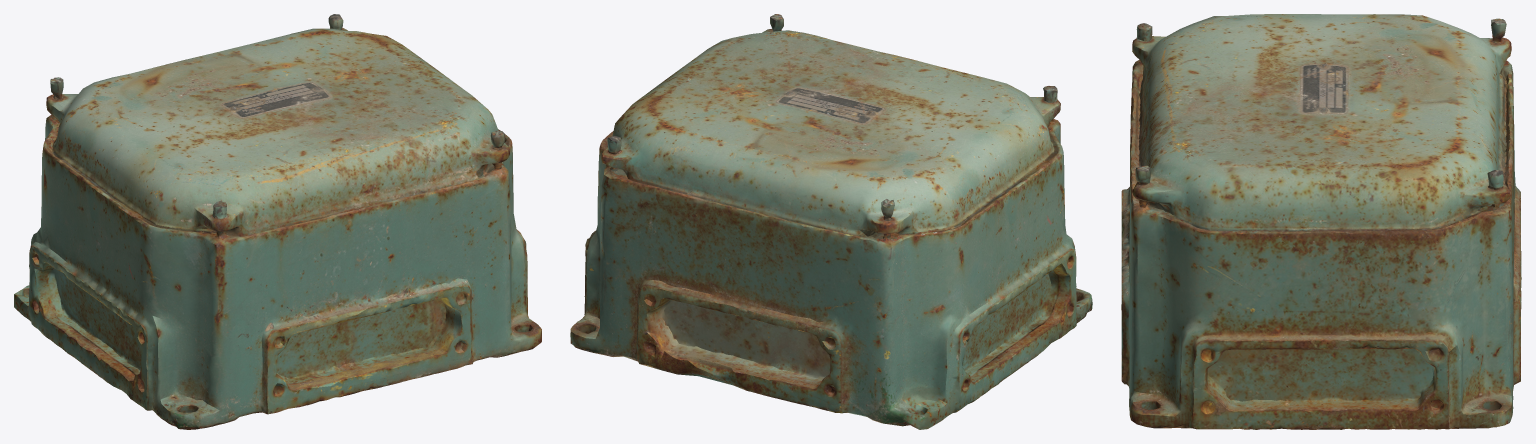
Rendered from electric_box_38.glb.
The picture shows the model from 3 angles, left to right: view 1: azimuth 30°, elevation 25°; view 2: azimuth 150°, elevation 25°; view 3: azimuth 270°, elevation 25°; orthographic projection. The views are drawn at different scales.
Visible parts, largest first — view 1: Aset_man_made_industrial_S_tdlhad1da_LOD0; view 2: Aset_man_made_industrial_S_tdlhad1da_LOD0; view 3: Aset_man_made_industrial_S_tdlhad1da_LOD0.
Boxes of the visible parts, left/top/right/bottom form: Aset_man_made_industrial_S_tdlhad1da_LOD0: left=14, top=14, right=541, bottom=429; Aset_man_made_industrial_S_tdlhad1da_LOD0: left=570, top=14, right=1092, bottom=429; Aset_man_made_industrial_S_tdlhad1da_LOD0: left=1121, top=14, right=1521, bottom=429.
Bounding box in the file's own units: 0.26 × 0.1494 × 0.2184.
Materials: 1 (1 with a texture image).
